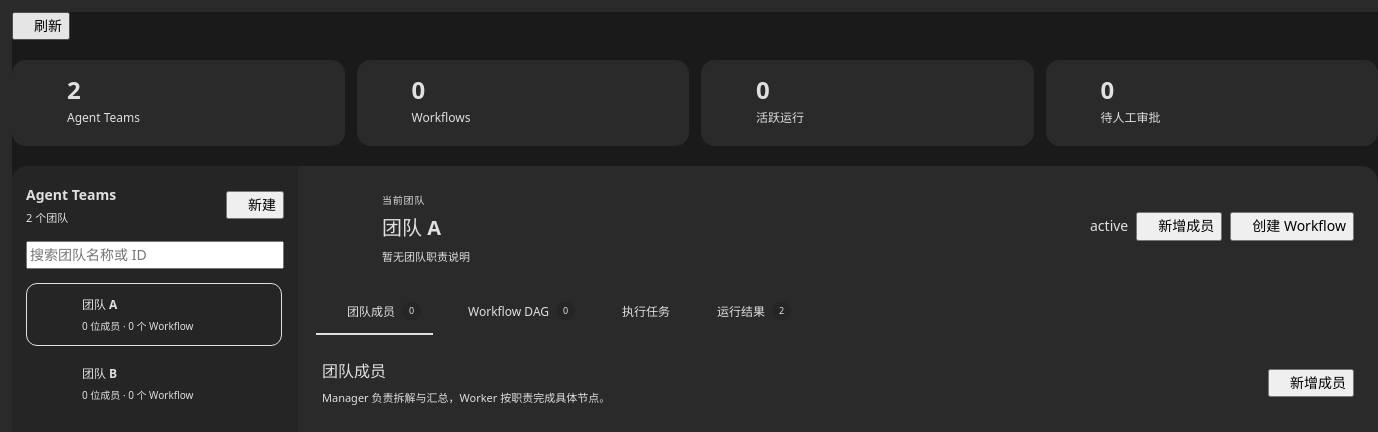
Test: MultiAgentView team run filtering › loads only the selected Team runs and resets to the newest run after switching Team
Step 1. Click the button "运行结果 2" → {"x": 745, "y": 311}, box [686,288,803,335]
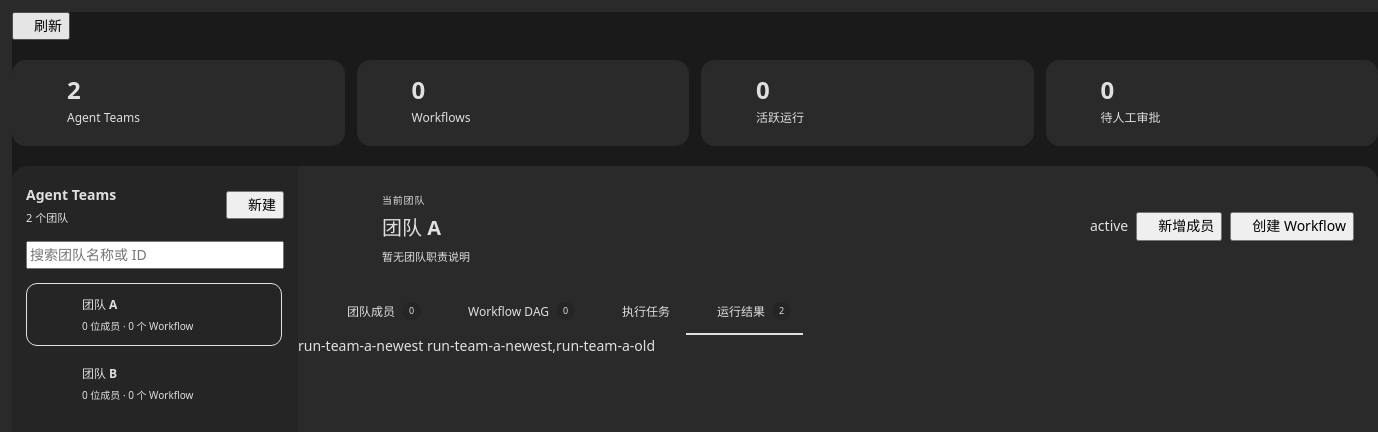
Check: the text with class "workspace-stub" shows "run-team-a-newest", box [298,336,655,355]
Step 2. Click the option "团队 B 0 位成员 · 0 个 Workflow" → {"x": 154, "y": 384}, box [26,352,282,415]
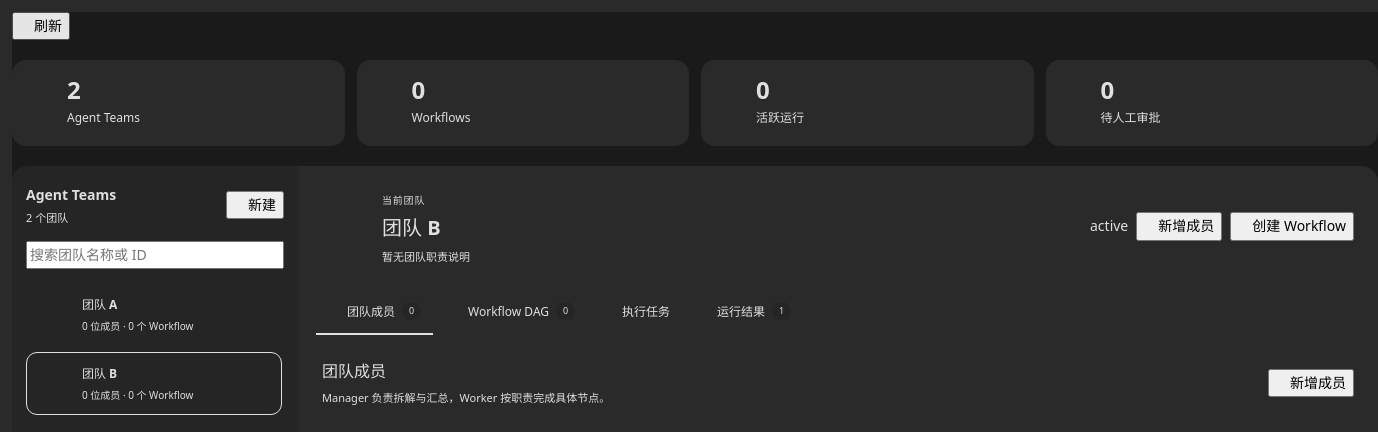
Step 3. Click the button "运行结果 1" → {"x": 745, "y": 311}, box [686,288,803,335]
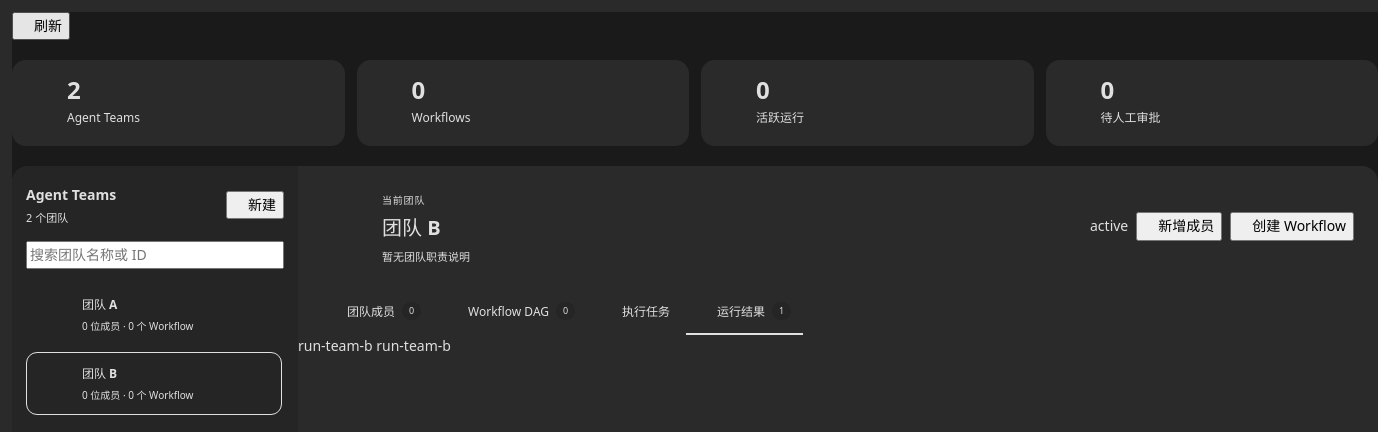
Check: the text with class "workspace-stub" does not show "run-team-a"
Check: the text with class "workspace-stub" shows "run-team-b", box [298,336,451,355]
